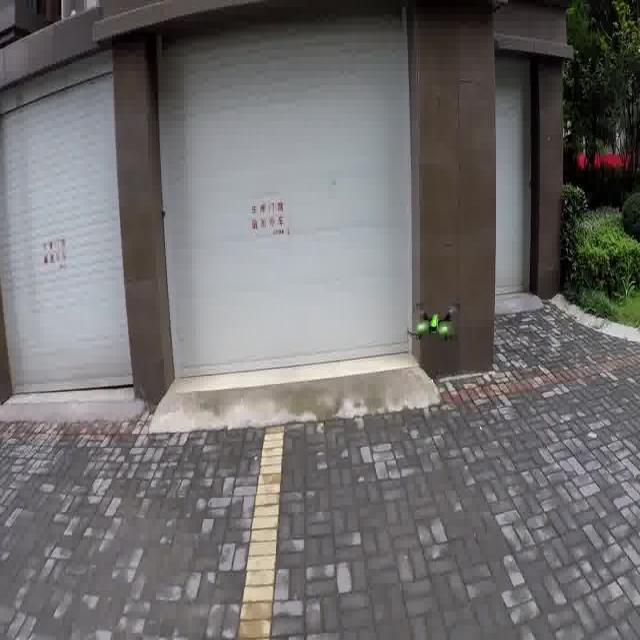drones: (403, 294, 466, 348)
